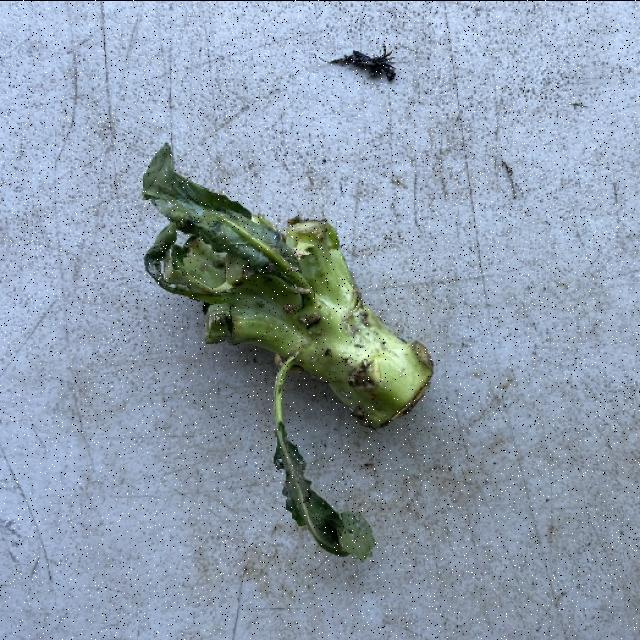organik: (142, 155, 428, 528)
